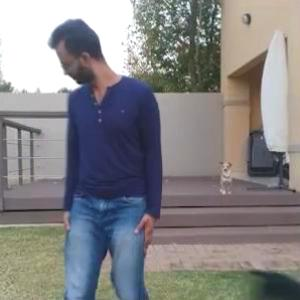follow: (132, 0, 299, 299), (47, 6, 159, 288)
